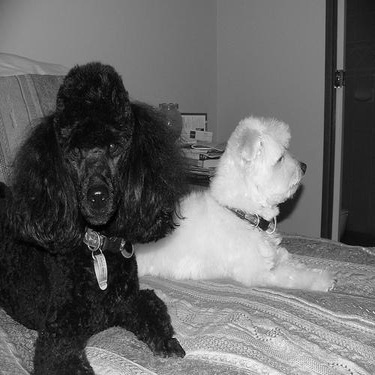dog: (1, 47, 208, 371), (122, 102, 343, 306)
